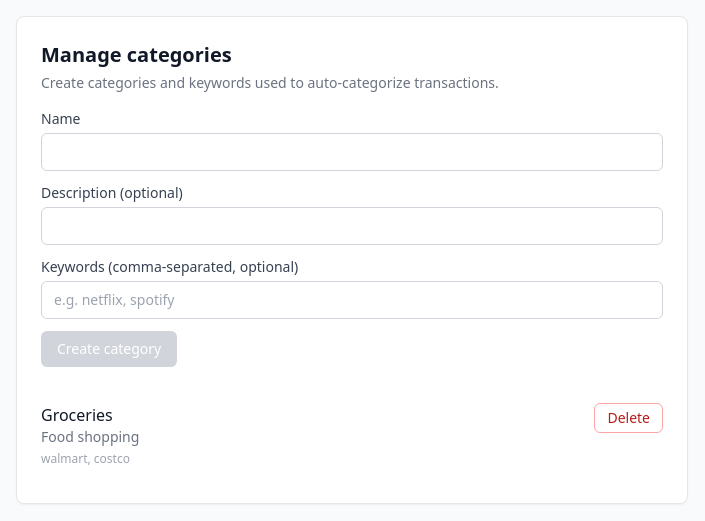
Test case: ManageCategories › does not delete without confirmation, and deletes + refreshes the list once confirmed
Expected: the text "Groceries" is shown, [41,404,113,426]
What coordinates should you click on to do the following:
click the button "Delete"
I would click on:
 (629, 418)
Its box is [594,403,663,433].
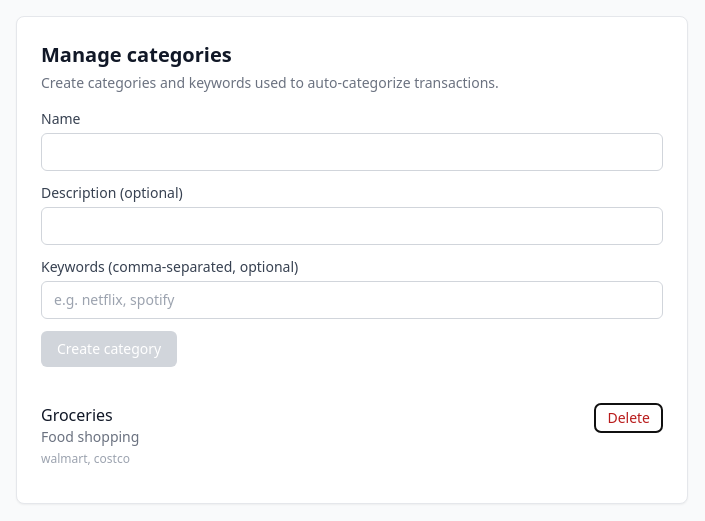
What coordinates should you click on to do the following:
click the button "Delete"
I would click on:
 (629, 418)
Its box is [594,403,663,433].
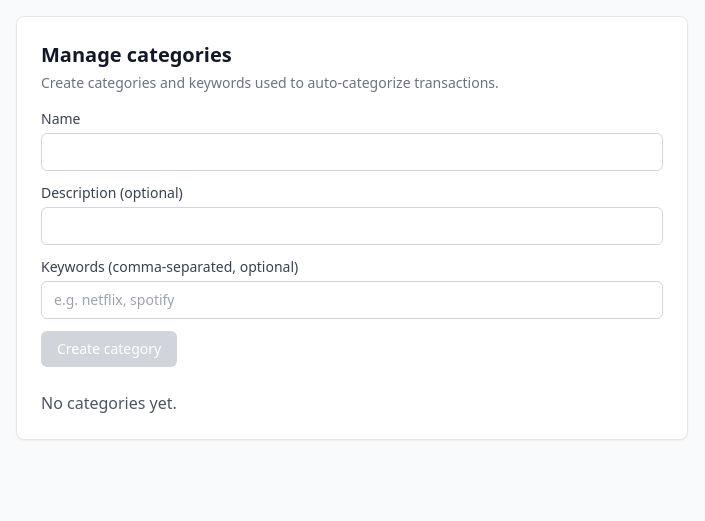
Now the text "No categories yet." is shown, box [41,392,177,414]
